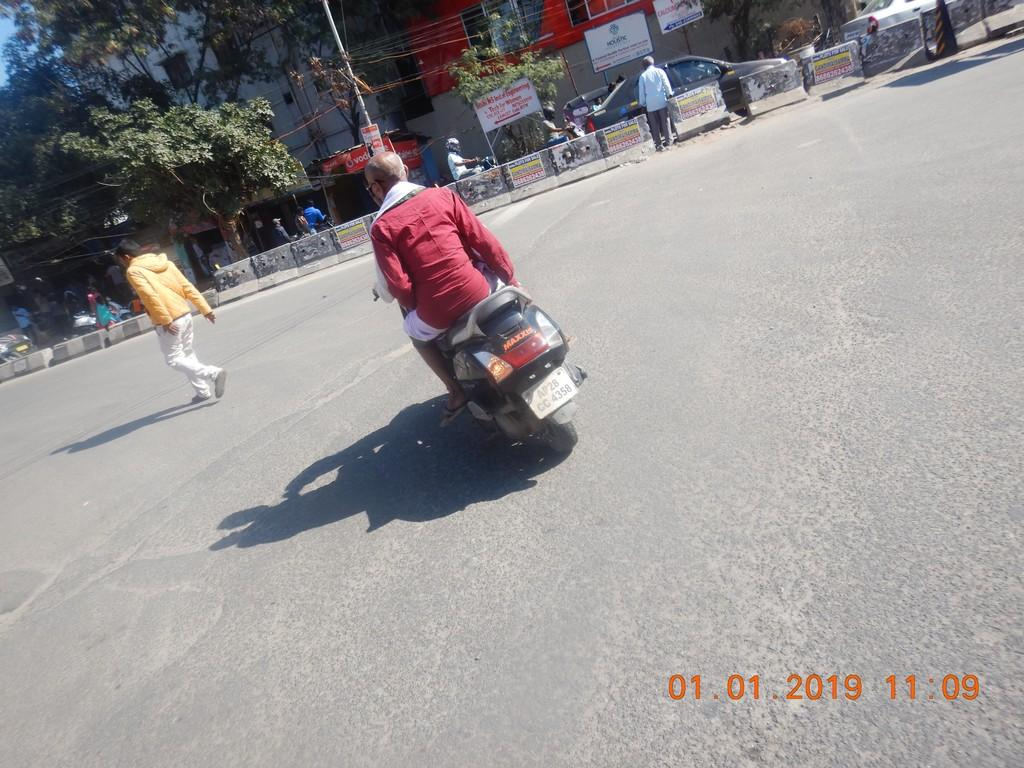plate: (527, 374, 578, 417)
